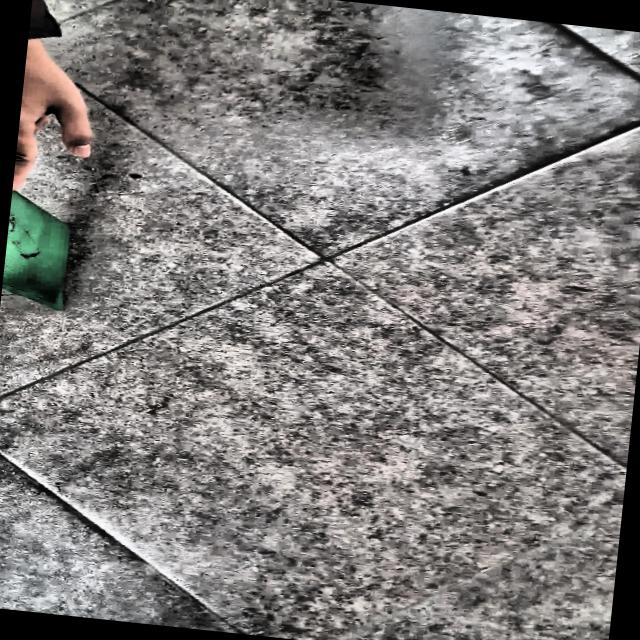payload: (2, 191, 69, 309)
